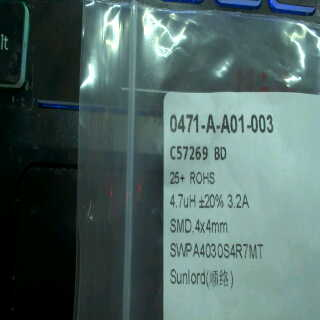4.7uH: (165, 192, 199, 212)
